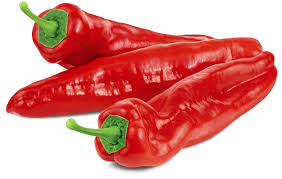bell pepper: (4, 34, 278, 121), (60, 76, 279, 174), (13, 1, 245, 62)
